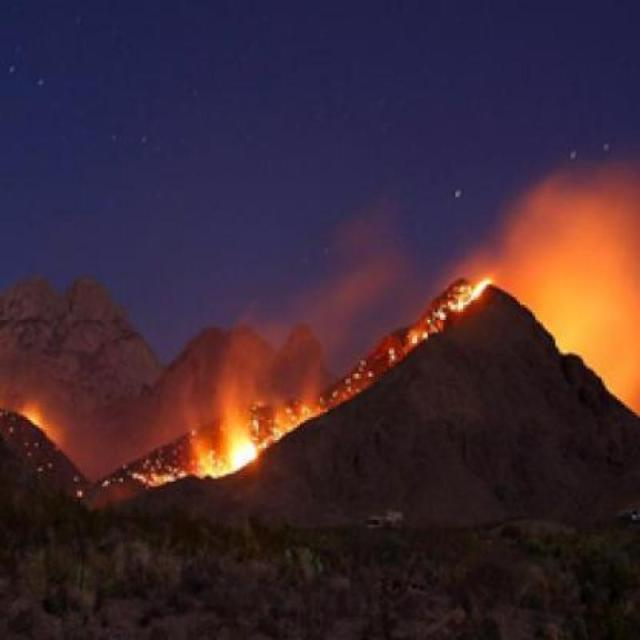Fire: (214, 272, 482, 498)
